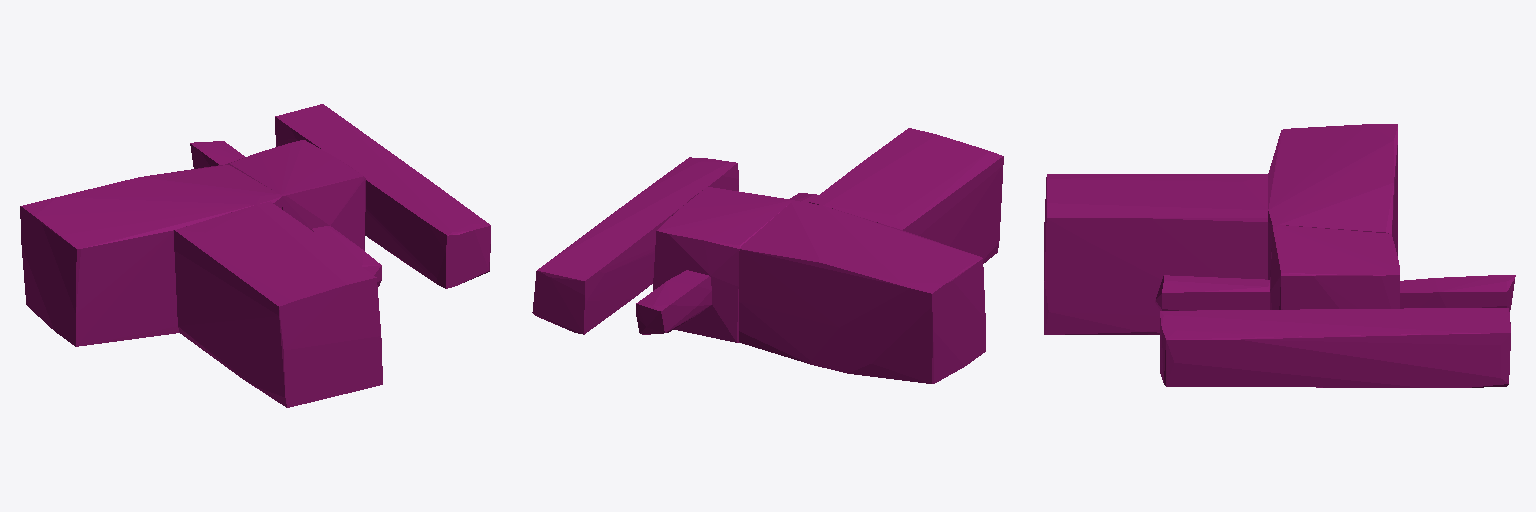
The robot description file, URDF, robot "blob497":
<robot name="blob497">
  <link name="random_obj_497">
    <contact>
      <lateral_friction value="1.0"/>
      <rolling_friction value="0.0"/>
      <inertia_scaling value="3.0"/>
      <contact_cfm value="0.0"/>
      <contact_erp value="1.0"/>
    </contact>
    <inertial>
      <origin rpy="0 0 0" xyz="0 0 0"/>
      <mass value="0.1"/>
      <inertia ixx="1" ixy="0" ixz="0" iyy="1" iyz="0" izz="0"/>
    </inertial>
    <visual>
      <origin rpy="0 0 0" xyz="0 0 0"/>
      <geometry>
        <mesh filename="497.obj" scale="0.015 0.015 0.015"/>
      </geometry>
      <material name="blockmat">
        <color rgba="0.59 0.14 0.47 1"/>
      </material>
    </visual>
    <collision>
      <origin rpy="0 0 0" xyz="0 0 0"/>
      <geometry>
        <mesh filename="497.obj" scale="0.015 0.015 0.015"/>
      </geometry>
    </collision>
  </link>
</robot>

--- What the picture shows (computed from the rendered views, not written in the file) ---
The picture shows the robot from 3 angles, left to right: view 1: azimuth 30°, elevation 25°; view 2: azimuth 150°, elevation 25°; view 3: azimuth 270°, elevation 25°; orthographic projection.
Robot: blob497 — 1 links, 0 joints (none); root link random_obj_497; default pose: all joints at 0.
Links seen in each view (by area): view 1: random_obj_497; view 2: random_obj_497; view 3: random_obj_497.
Link boxes in pixels (bbox=[...]): random_obj_497: bbox=[20, 104, 490, 407]; random_obj_497: bbox=[532, 128, 1003, 383]; random_obj_497: bbox=[1044, 124, 1515, 387].
Bounding box of the posed robot: 0.1139 × 0.1216 × 0.033 m (x, y, z).
Meshes: 1 distinct files referenced, 1 mesh visuals loaded (1 OBJ).